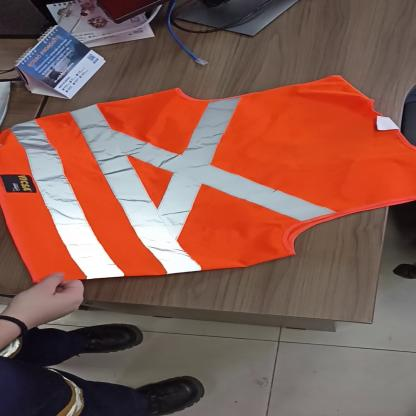colete: (0, 70, 416, 294)
